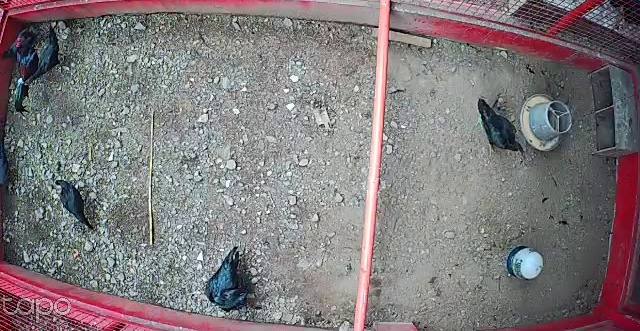Chicken: (203, 245, 250, 315), (475, 97, 525, 156), (52, 178, 96, 230), (33, 21, 70, 81), (3, 22, 40, 63)
Drinker: (505, 245, 545, 280)
Feeder: (518, 89, 571, 156)
Rooster: (12, 37, 44, 117)
